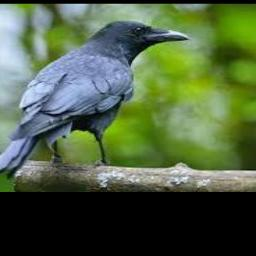Crow: (0, 21, 191, 179)
